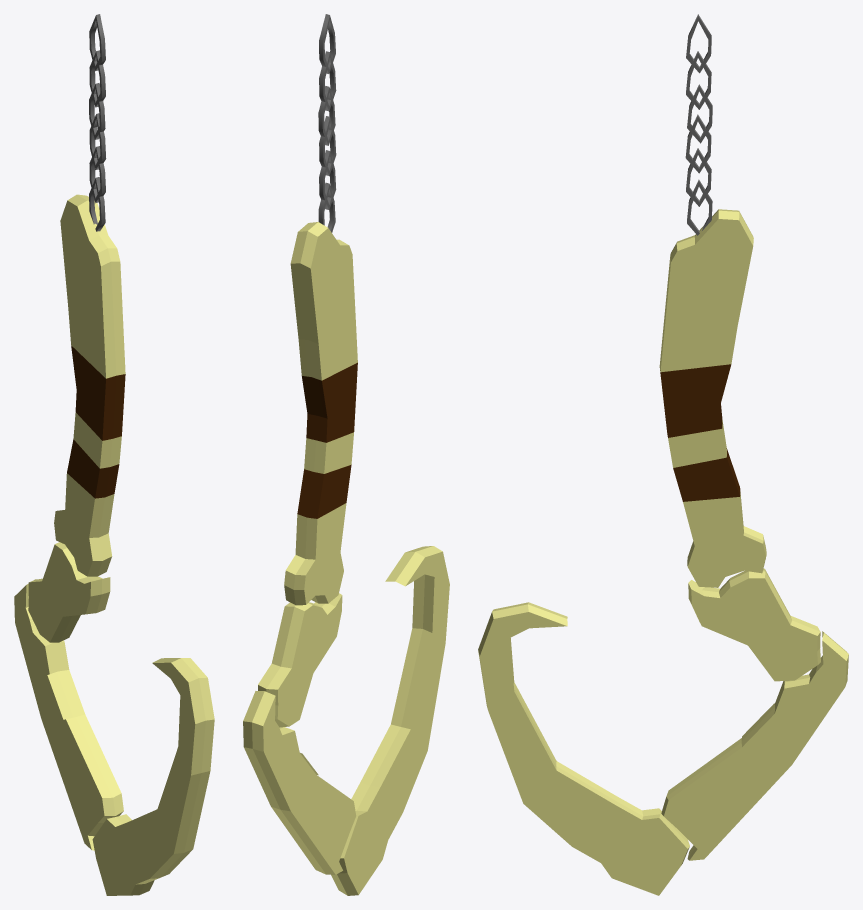
File: hook.glb
The picture shows the model from 3 angles, left to right: view 1: azimuth 30°, elevation 25°; view 2: azimuth 150°, elevation 25°; view 3: azimuth 270°, elevation 25°; orthographic projection. The views are drawn at different scales.
Visible parts, largest first — view 1: Plane.002; view 2: Plane.002; view 3: Plane.002.
Boxes of the visible parts, <box> form: Plane.002: <box>14,14,214,895</box>; Plane.002: <box>243,14,449,895</box>; Plane.002: <box>478,14,848,895</box>.
Size of the model in its own units: 0.1464 by 5.53 by 2.11.
